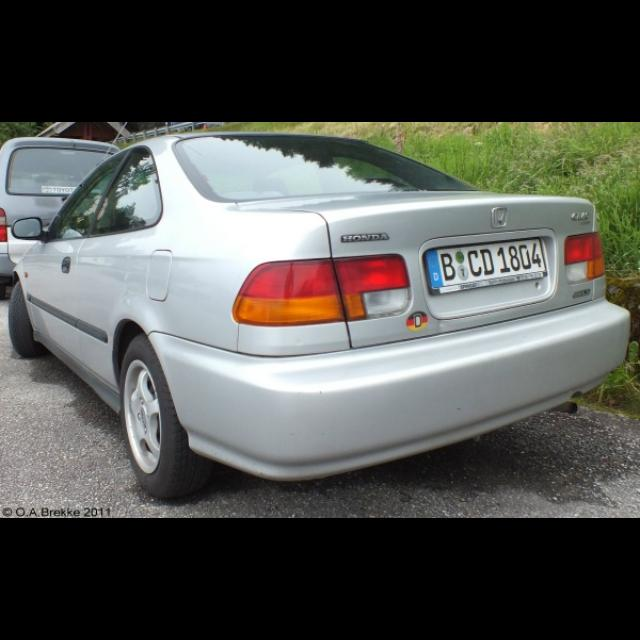d_license_plate: (426, 238, 544, 290)
